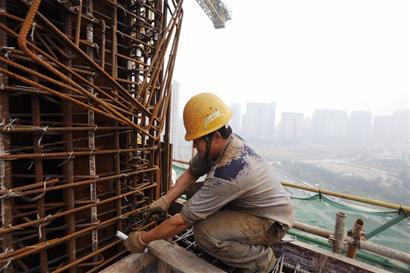helmet: (179, 91, 236, 158)
